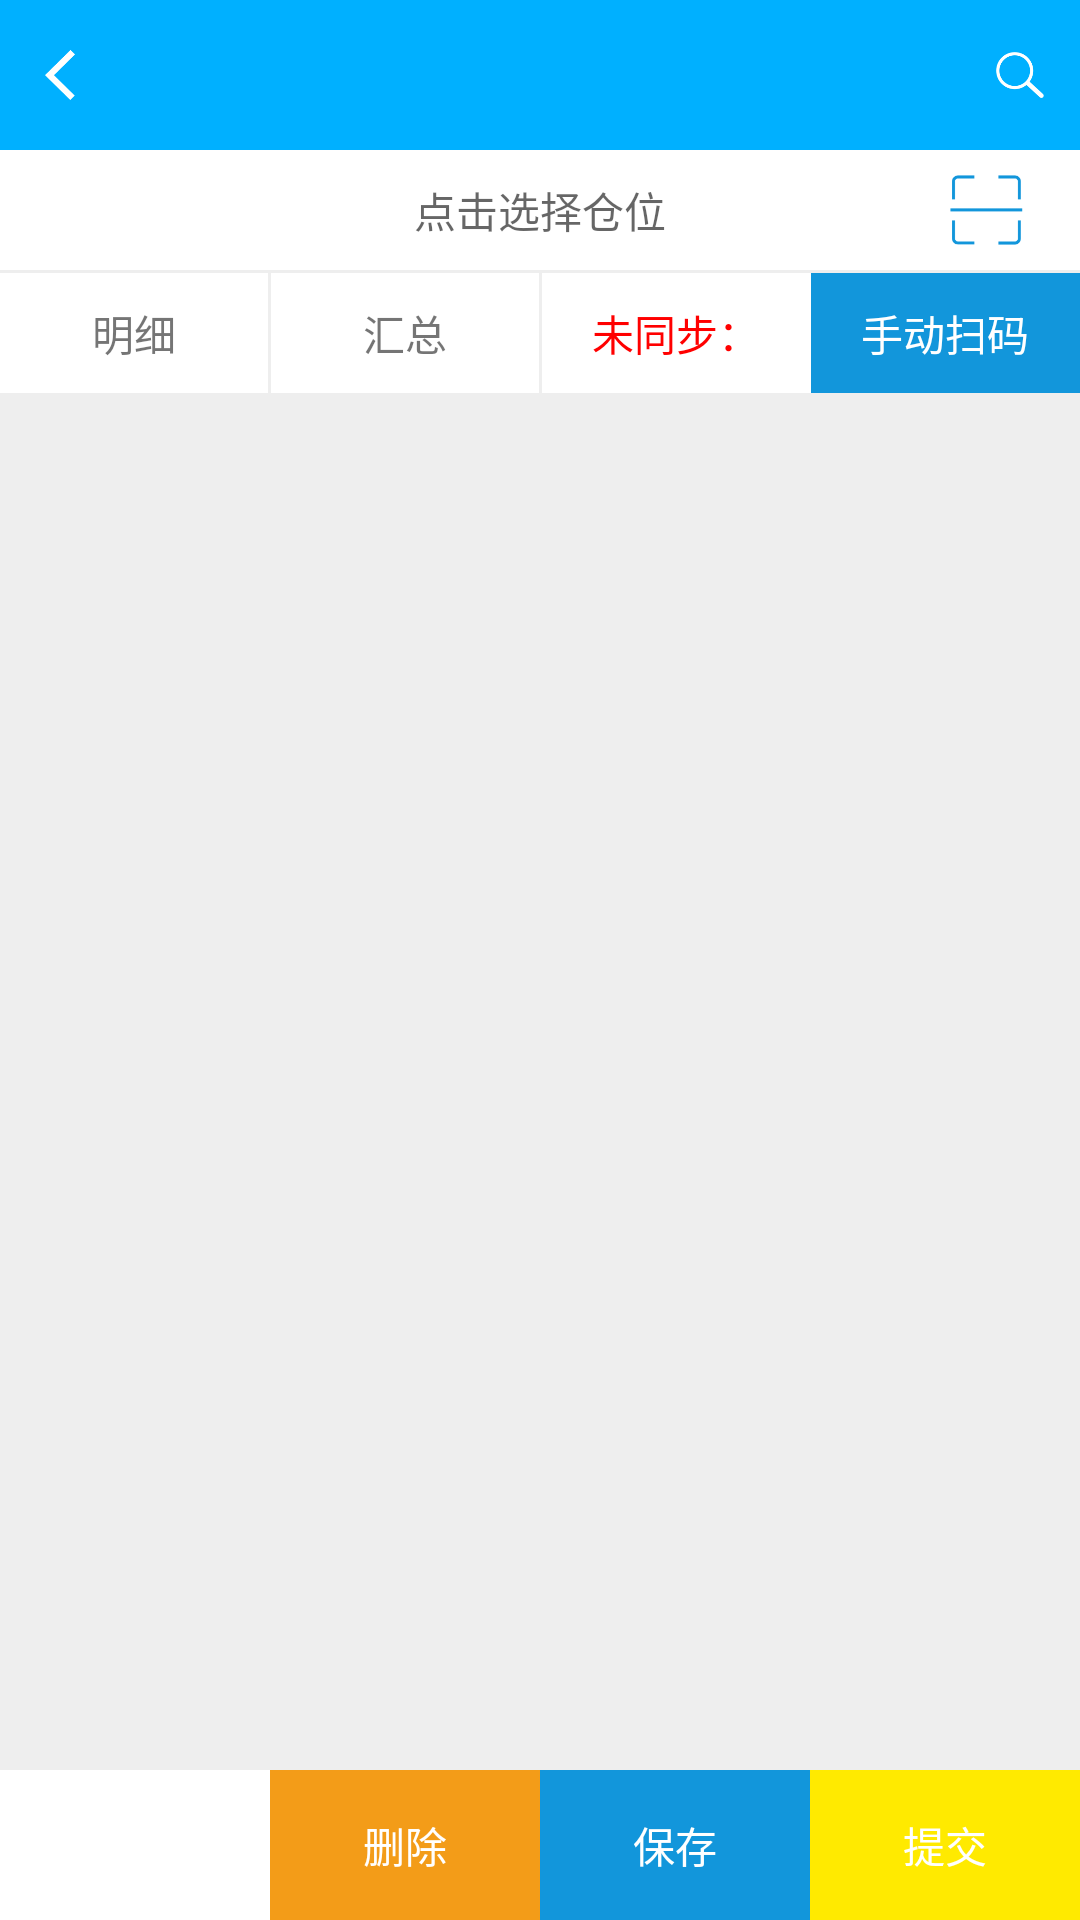

Icon bounding boxes for this 1080x1920 phone screenshot, format (x1, y1, x2, y2):
back: (45, 50, 75, 100)
search: (996, 52, 1044, 98)
